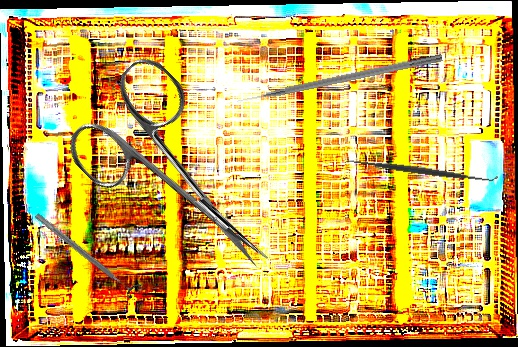Fixation Ring: (30, 207, 142, 301)
Hook Surgical: (235, 51, 443, 105)
Iris Scissors: (53, 49, 312, 308)
Spatula Surgical: (344, 151, 499, 190)
